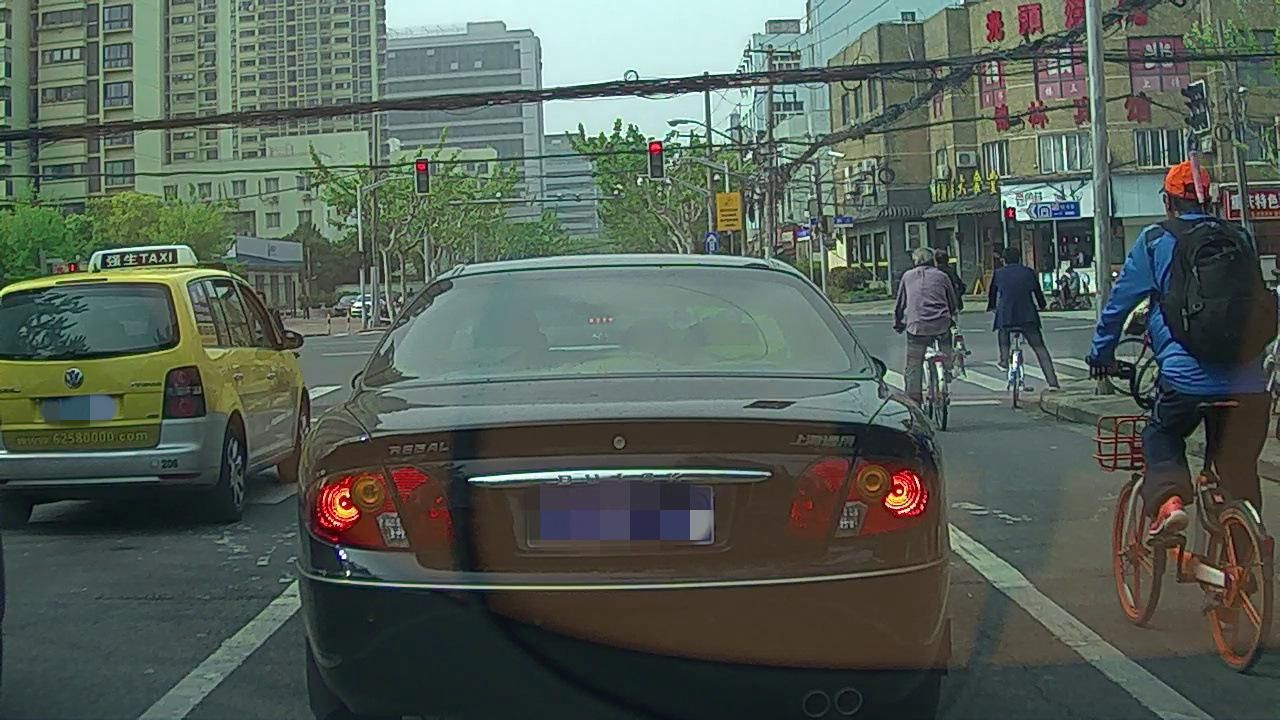traffic_light: (649, 141, 665, 179), (415, 159, 429, 193)
